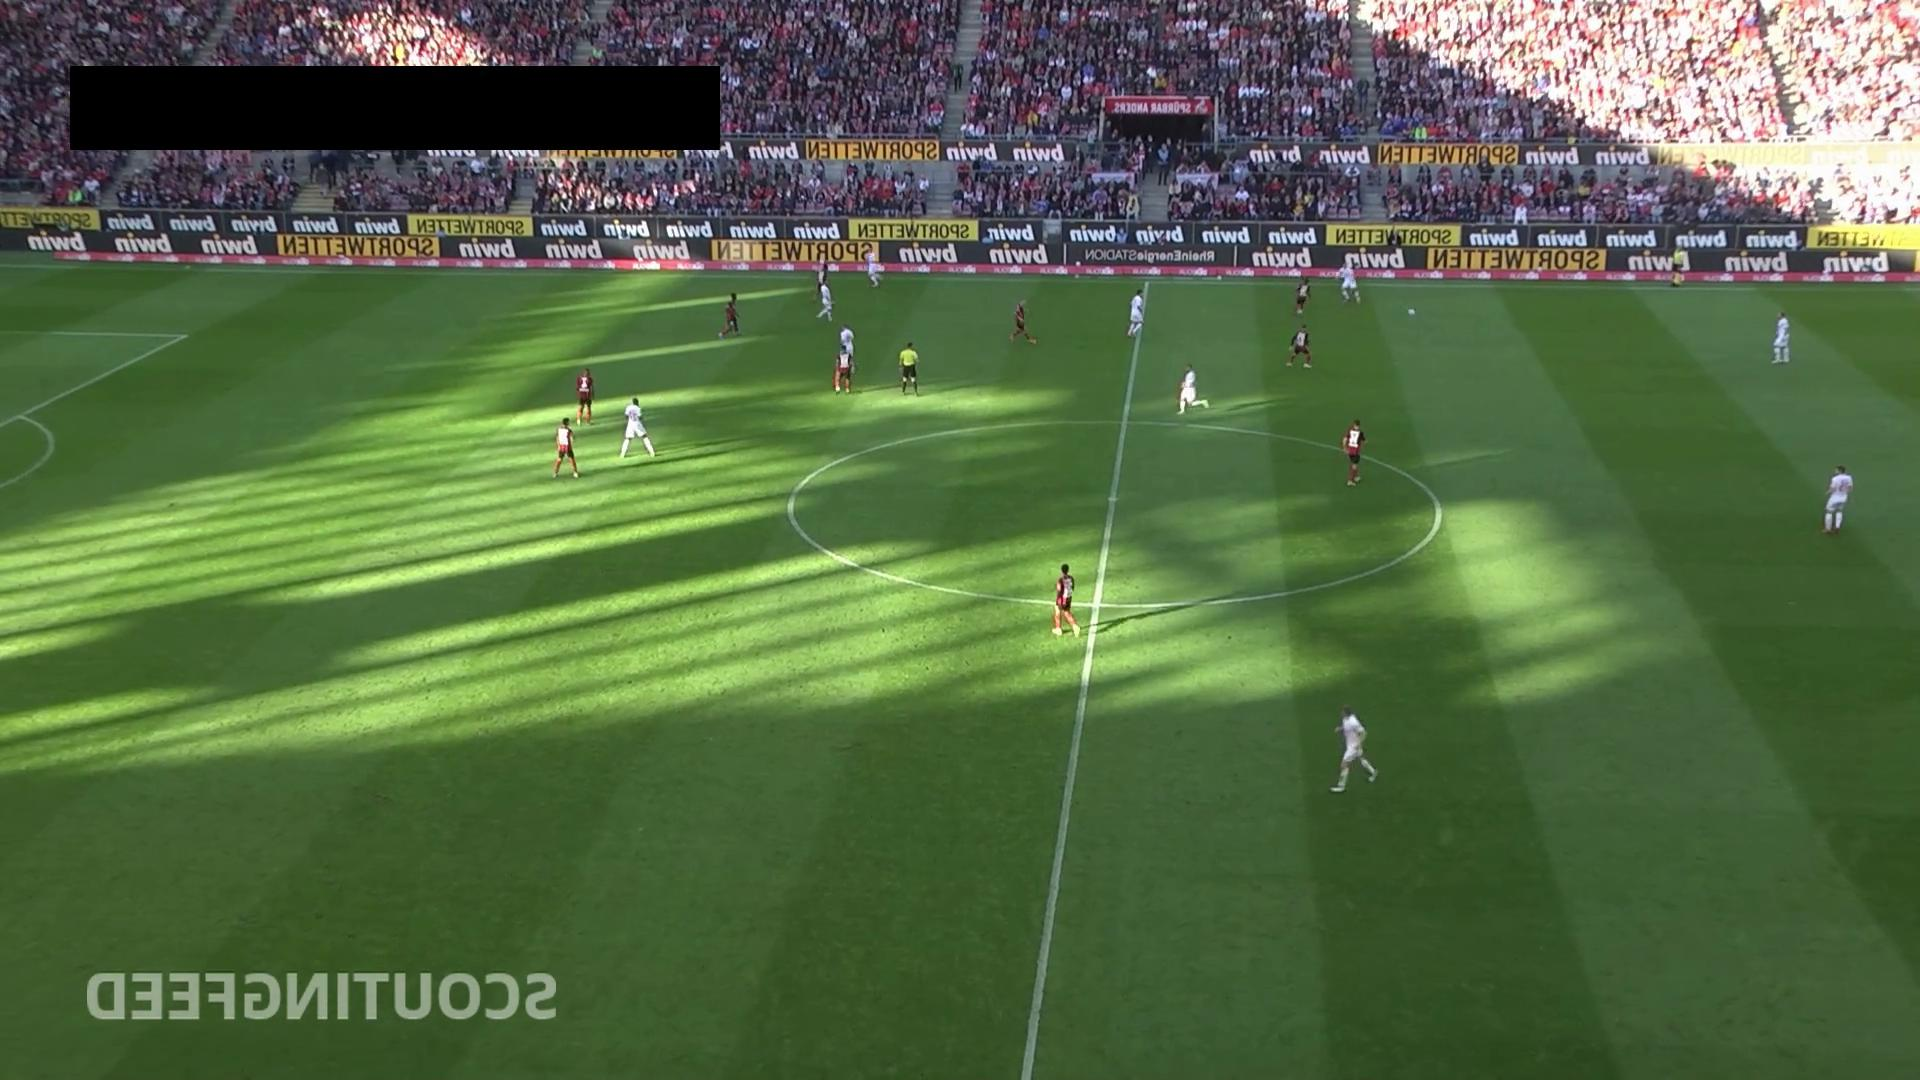ball: (1406, 307, 1416, 317)
player: (1329, 705, 1378, 792), (1821, 463, 1853, 535), (620, 396, 656, 458), (1051, 563, 1080, 638), (1342, 418, 1367, 486), (553, 417, 580, 479), (1009, 299, 1038, 345), (1285, 324, 1313, 368), (718, 292, 741, 339), (838, 324, 858, 377), (575, 369, 594, 424), (834, 345, 855, 394), (1771, 310, 1790, 364), (1177, 364, 1197, 414), (862, 244, 884, 289), (1338, 258, 1360, 303), (1126, 288, 1145, 339), (815, 278, 835, 321), (814, 255, 830, 297), (1294, 277, 1311, 315)
referee: (898, 341, 920, 396), (1670, 243, 1688, 286)
